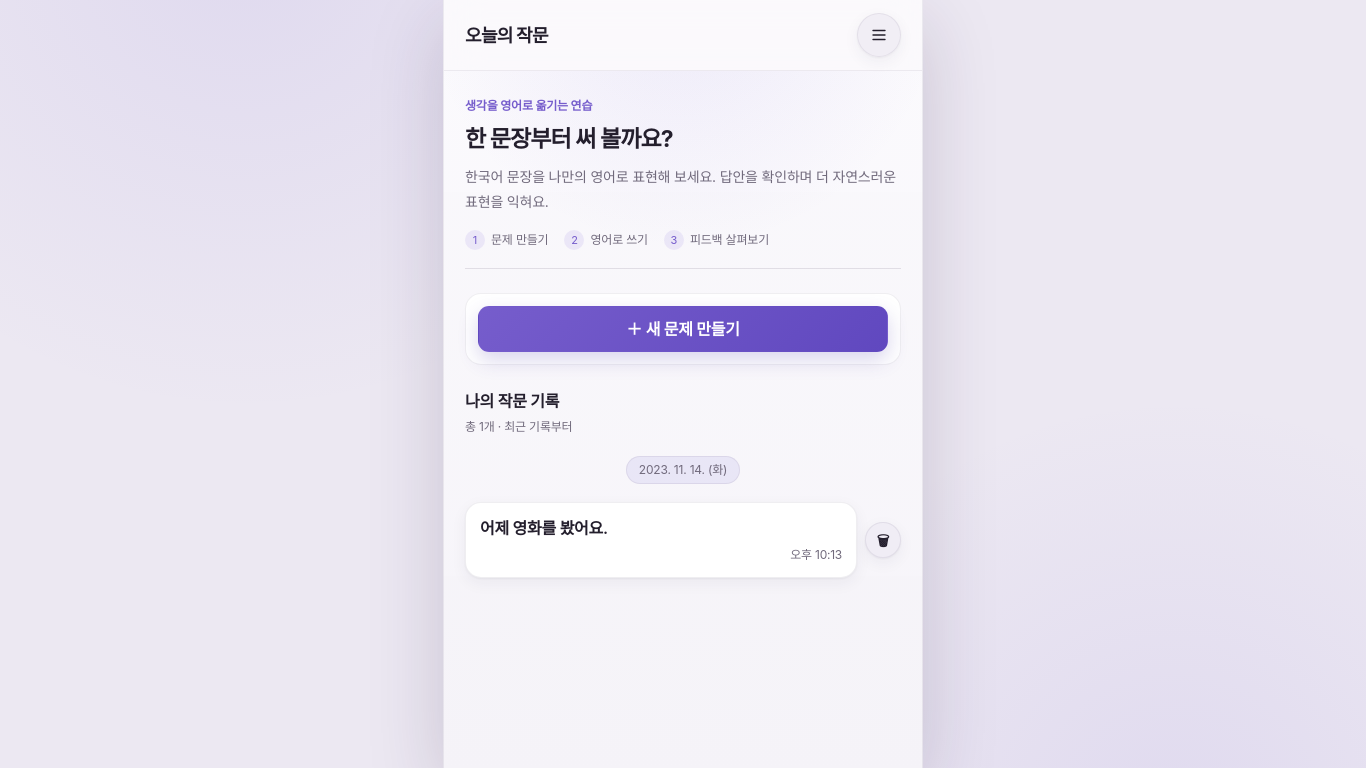
Scenario: Writing page list/detail flow › deletes a problem from the list after confirmation
Expected: the button "어제 영화를 봤어요. 오후 10:13" is shown, [465,502,857,578]
Click the button named "작문 문제 삭제": (883, 540) [865,522,901,558]
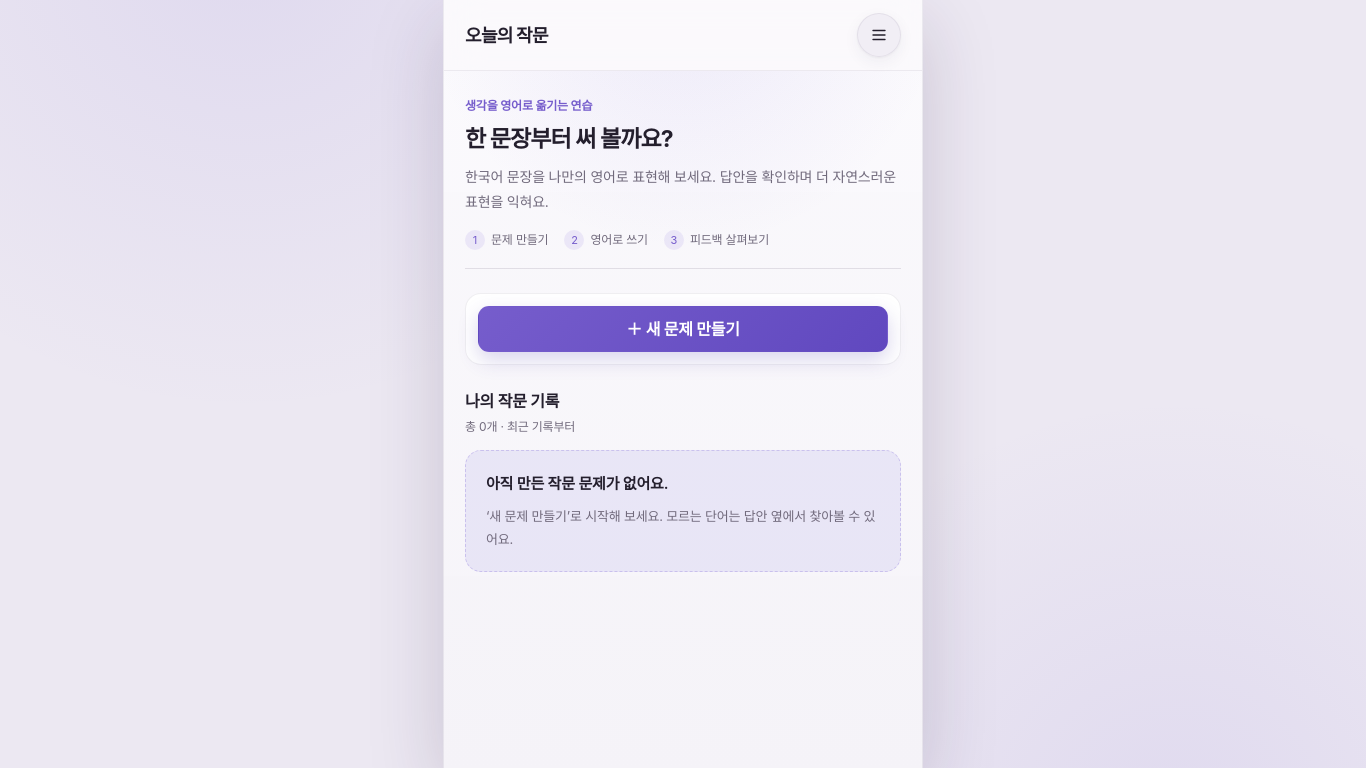
Expected: the button "어제 영화를 봤어요." is gone
